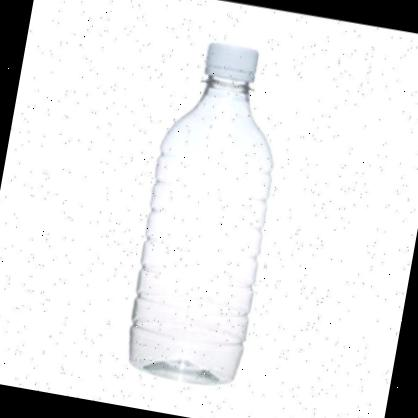bottle: (119, 35, 296, 392)
cap: (202, 40, 260, 84)
